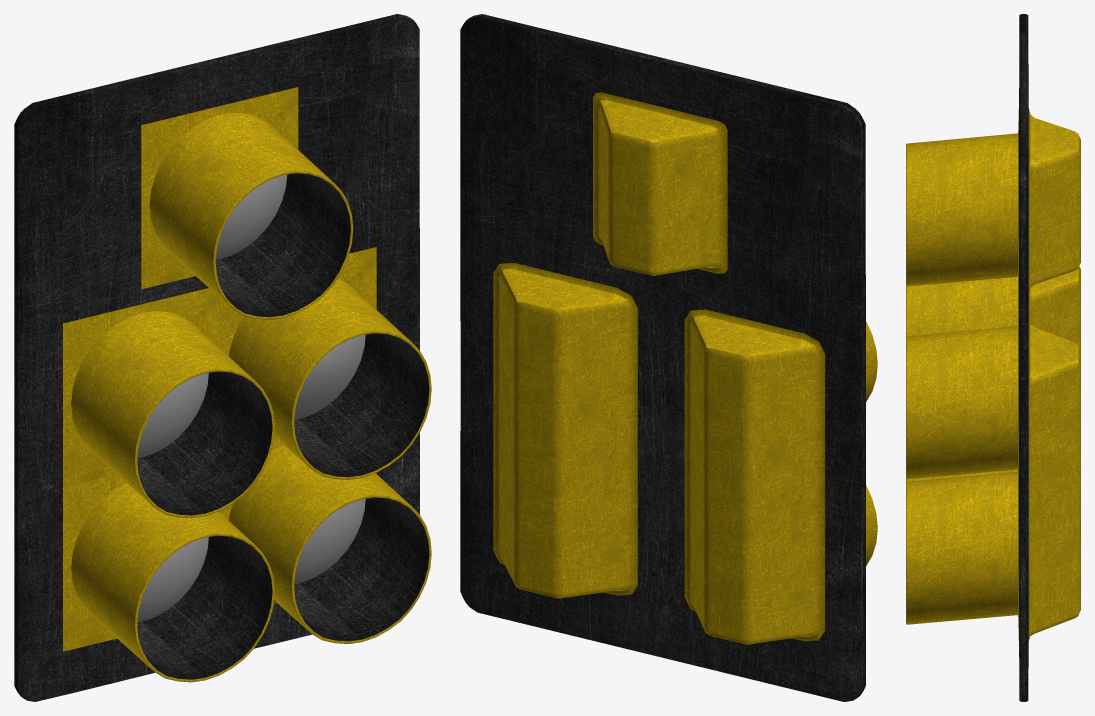
The model's file is TrafficSignalVerticalFullConeYellowBlack5.fbx.
The picture shows the model from 3 angles, left to right: view 1: azimuth 30°, elevation 25°; view 2: azimuth 150°, elevation 25°; view 3: azimuth 270°, elevation 25°; orthographic projection. The views are drawn at different scales.
Parts seen in each view (by area): view 1: Casing, SignalLight1, SignalLight3, SignalLight2, SignalLight4, SignalLight0; view 2: Casing; view 3: Casing.
Boxes of the visible parts, left/top/right/bottom form: Casing: left=14, top=14, right=431, bottom=701; SignalLight1: left=137, top=373, right=208, bottom=458; SignalLight3: left=137, top=537, right=208, bottom=622; SignalLight2: left=294, top=334, right=365, bottom=419; SignalLight4: left=294, top=499, right=365, bottom=583; SignalLight0: left=216, top=174, right=287, bottom=259; Casing: left=460, top=14, right=877, bottom=701; Casing: left=906, top=14, right=1080, bottom=701.
Size of the model in its own units: 1.06 by 1.5 by 0.4504.
